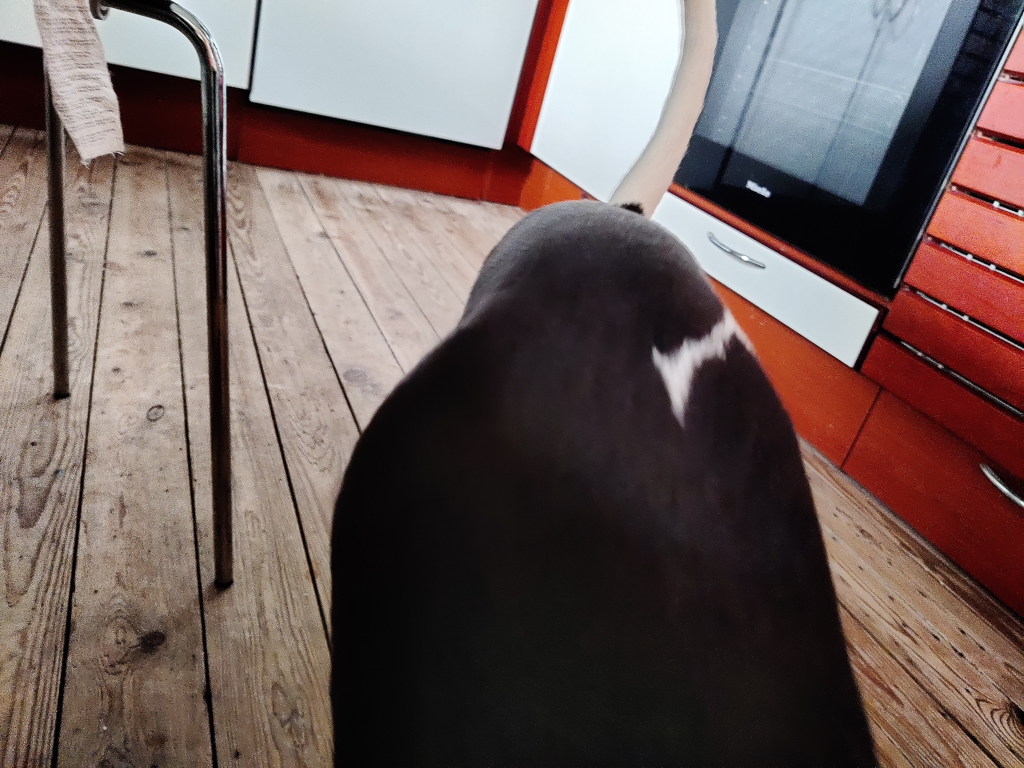Dog: (309, 0, 911, 768)
